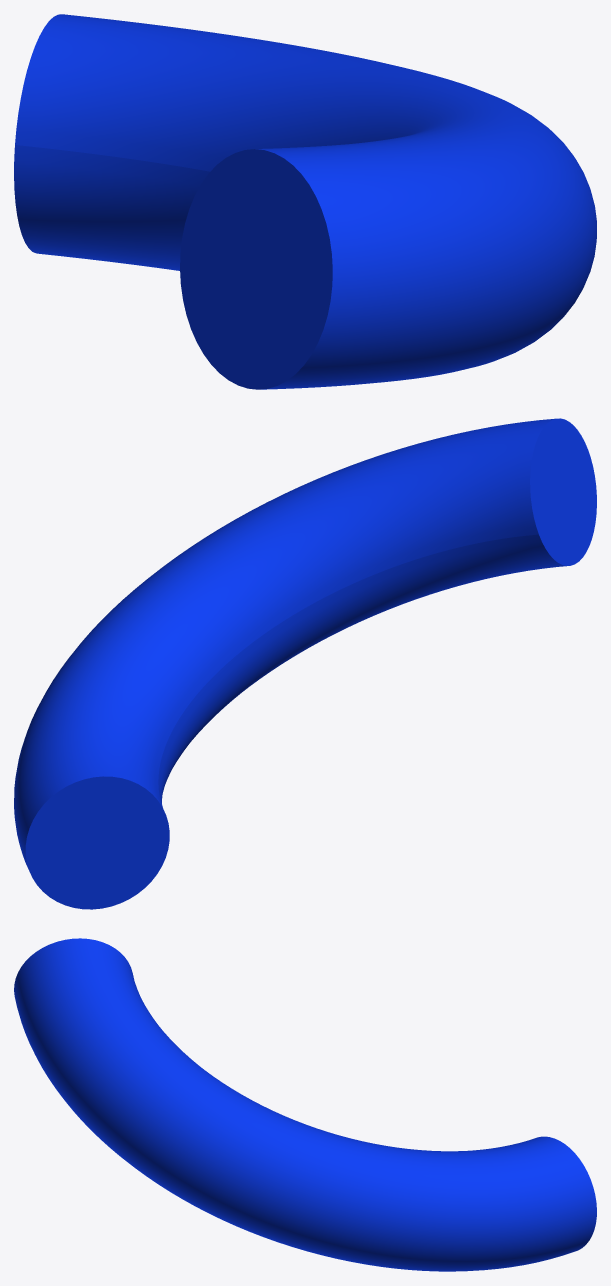
The model's file is pipe.gltf.
The picture shows the model from 3 angles, top to bottom: view 1: azimuth 30°, elevation 25°; view 2: azimuth 150°, elevation 25°; view 3: azimuth 270°, elevation 25°; orthographic projection. The views are drawn at different scales.
Parts seen in each view (by area): view 1: Torus 2; view 2: Torus 2; view 3: Torus 2.
Boxes of the visible parts, left/top/right/bottom form: Torus 2: left=14, top=14, right=596, bottom=389; Torus 2: left=14, top=418, right=596, bottom=909; Torus 2: left=14, top=938, right=596, bottom=1271.
Bounding box in the file's own units: 0.1377 × 0.1189 × 0.2518.
